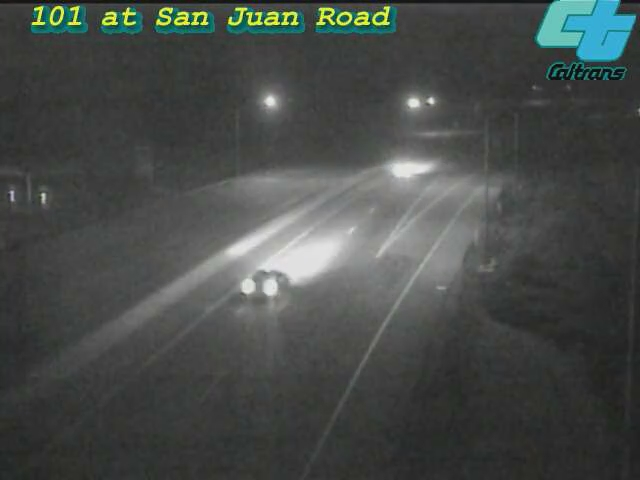vehicle: (361, 130, 441, 210), (225, 246, 305, 326)
